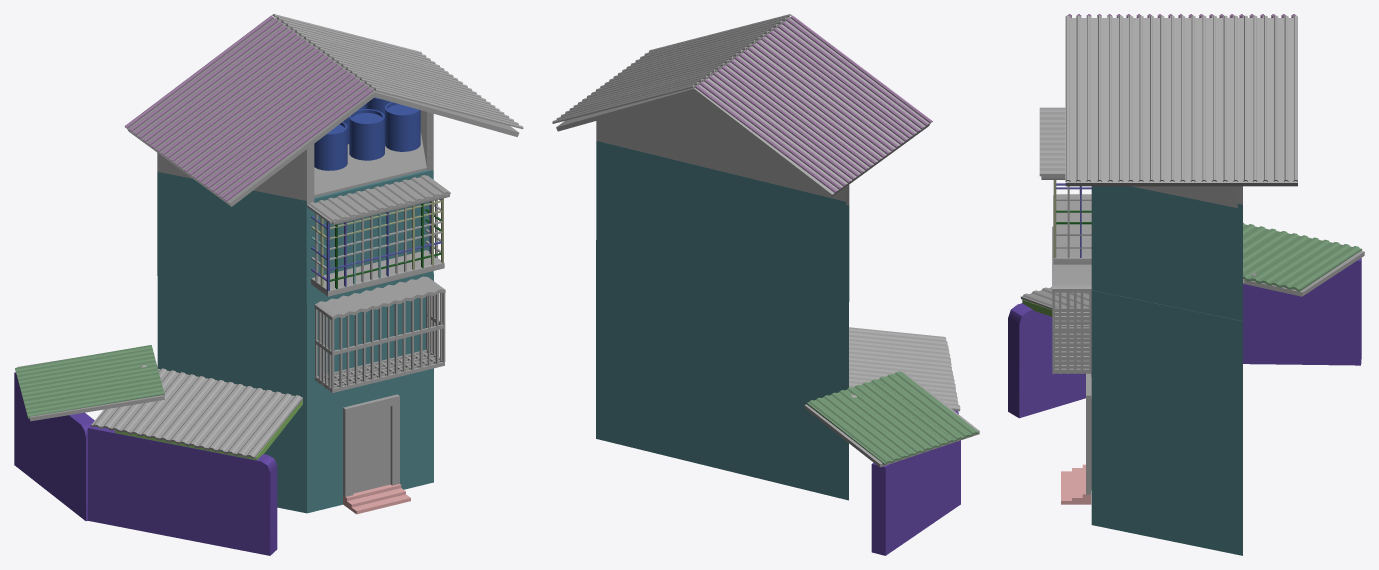
The model's file is house3.fbx.
3 views of the same model, side by side, from view 1: azimuth 30°, elevation 25°; view 2: azimuth 150°, elevation 25°; view 3: azimuth 270°, elevation 25° (orthographic). The views are drawn at different scales.
Parts seen in each view (by area): view 1: wall, wall2, balcony5, wall3_2, balcony20, wall3, balcony10, balcony19, balcony6, wall3_3, water_2, balcony15 (+22 smaller); view 2: wall, wall2, wall3, balcony5, balcony20, wall4_2, balcony6, balcony19, wall3_3, balcony10, balcony11; view 3: balcony20, balcony19, wall2, wall3, wall, wall3_3, wall3_2, balcony6, balcony12, balcony15, balcony28, wall4_4 (+9 smaller).
Boxes of the visible parts, box(x1,y1,x2,y2) form: wall: box(157, 170, 433, 305); wall2: box(157, 273, 433, 409); balcony5: box(124, 15, 373, 201); wall3_2: box(87, 425, 277, 555); balcony20: box(127, 17, 519, 206); wall3: box(264, 378, 433, 513); balcony10: box(91, 365, 302, 458); balcony19: box(272, 14, 523, 129); balcony6: box(15, 345, 164, 418); wall3_3: box(14, 372, 94, 520); water_2: box(314, 97, 420, 170); balcony15: box(307, 175, 450, 223); wall: box(596, 141, 849, 301); wall2: box(596, 240, 848, 395); wall3: box(596, 339, 848, 500); balcony5: box(695, 15, 932, 192); balcony20: box(556, 17, 929, 197); wall4_2: box(596, 93, 844, 201); balcony6: box(807, 371, 978, 465); balcony19: box(552, 14, 791, 123); wall3_3: box(871, 440, 960, 555); balcony10: box(849, 327, 960, 411); balcony11: box(804, 371, 979, 467); balcony20: box(1065, 18, 1297, 186); balcony19: box(1065, 15, 1297, 181); wall2: box(1091, 290, 1242, 438); wall3: box(1091, 408, 1242, 555); wall: box(1091, 186, 1242, 320); wall3_3: box(1243, 258, 1361, 365); wall3_2: box(1008, 303, 1091, 418); balcony6: box(1243, 222, 1362, 291); balcony12: box(1053, 194, 1091, 264); balcony15: box(1039, 107, 1065, 176); balcony28: box(1052, 226, 1091, 292); wall4_4: box(1132, 186, 1237, 207).
Bounding box in the file's own units: 1081 × 1030 × 706.
